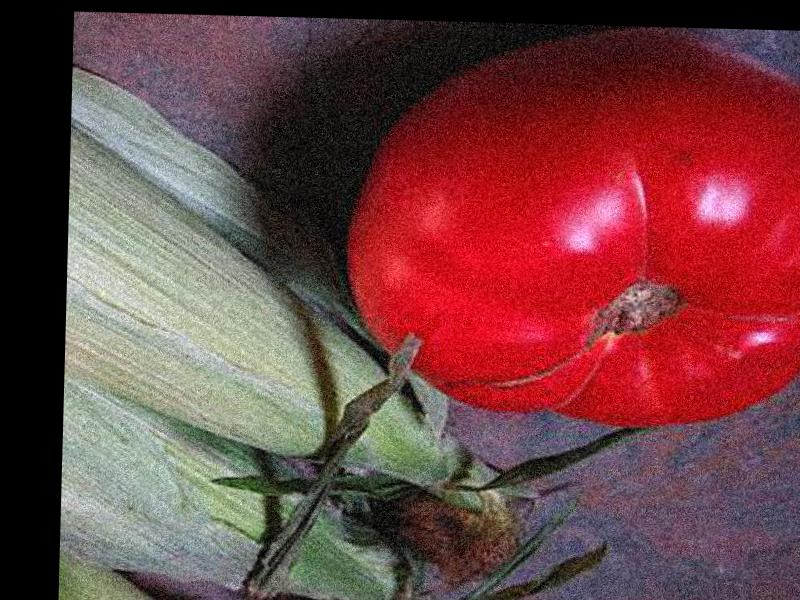Tomato: (345, 24, 800, 433)
